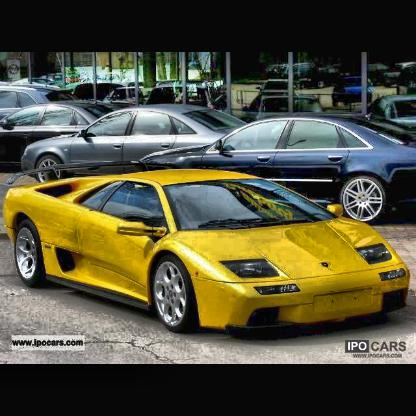Lamborghini Diablo Coupe 2001: (5, 154, 411, 345)
